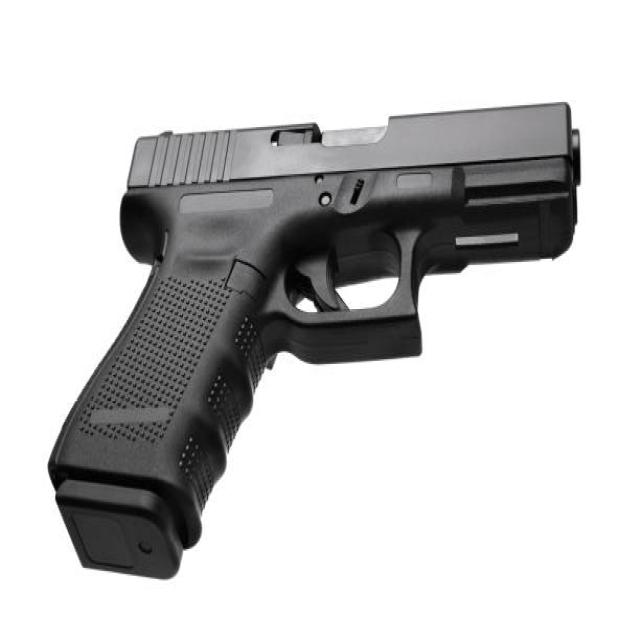pistol: (45, 86, 589, 597)
